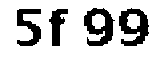5: (14, 4, 45, 50)
9: (116, 6, 152, 53), (81, 5, 115, 53)
f: (48, 6, 74, 53)
